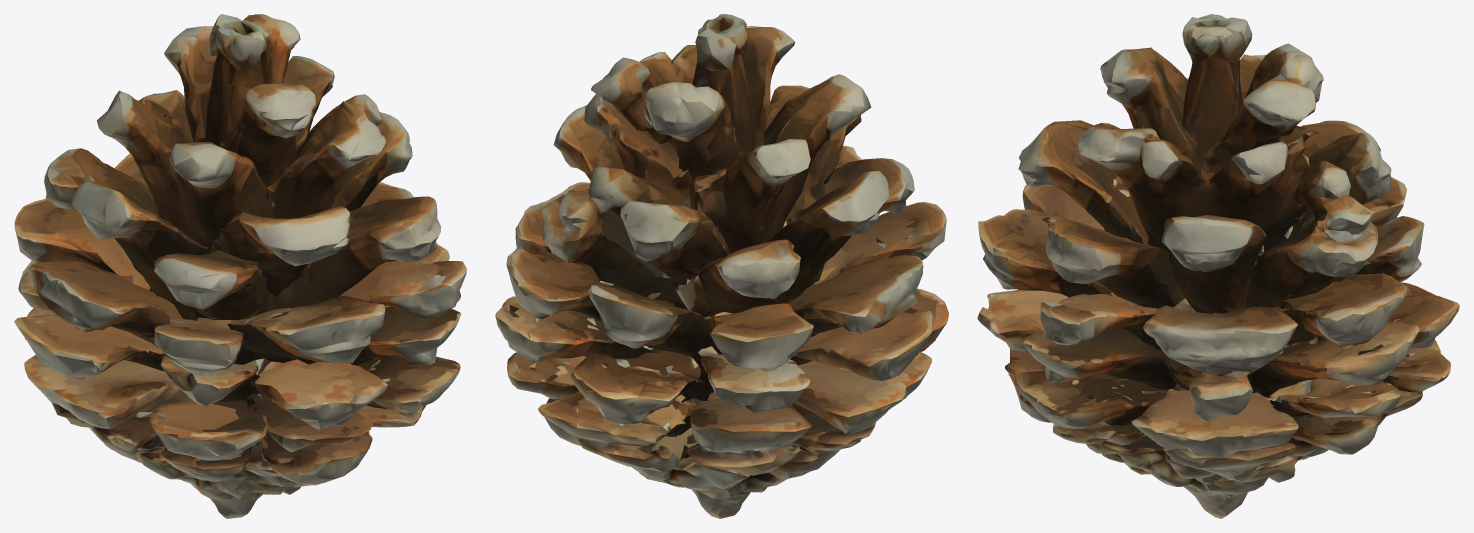
Rendered from item_pine_cone.glb.
3 views of the same model, side by side, from view 1: azimuth 30°, elevation 25°; view 2: azimuth 150°, elevation 25°; view 3: azimuth 270°, elevation 25° (orthographic).
Visible parts, largest first — view 1: item_pine_cone; view 2: item_pine_cone; view 3: item_pine_cone.
Part boxes in pixels (left/top/right/bottom): item_pine_cone: left=14, top=14, right=466, bottom=518; item_pine_cone: left=495, top=14, right=948, bottom=518; item_pine_cone: left=977, top=14, right=1459, bottom=518.
Size of the model in its own units: 0.0869 by 0.1 by 0.0885.
Materials: 1 (1 with a texture image).
